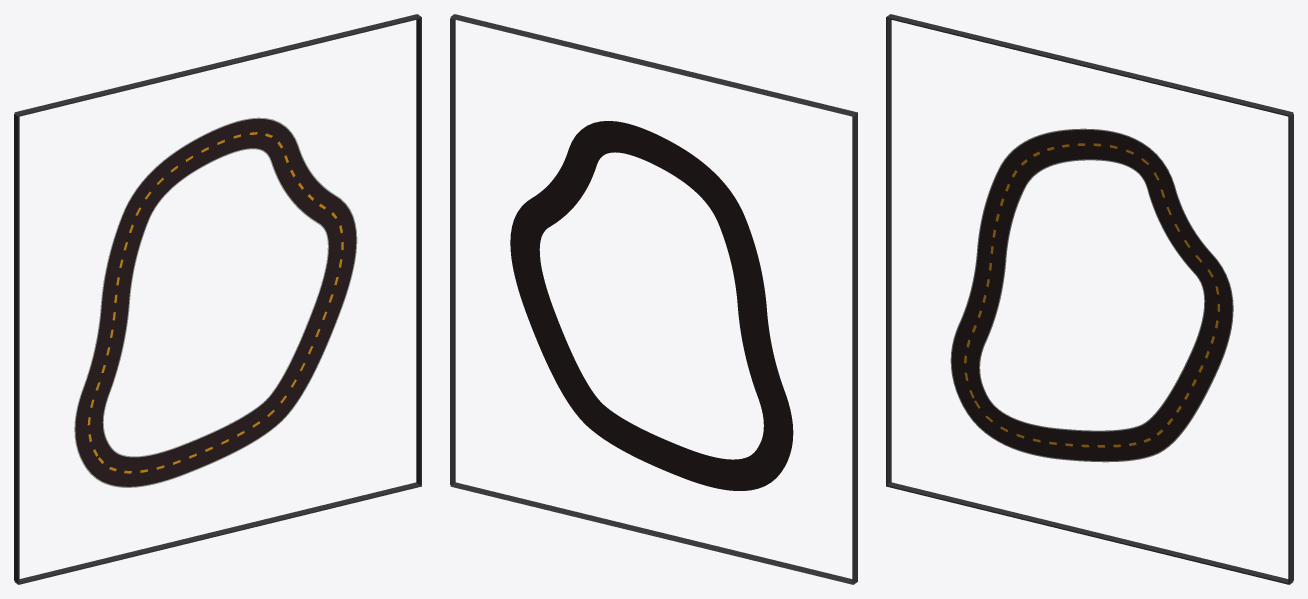
Rendered from track.obj.
3 views of the same model, side by side, from view 1: azimuth 30°, elevation 25°; view 2: azimuth 150°, elevation 25°; view 3: azimuth 330°, elevation 25° (orthographic).
Size of the model in its own units: 16.03 by 17.83 by 0.3.
Materials: 4 (4 with a texture image).
